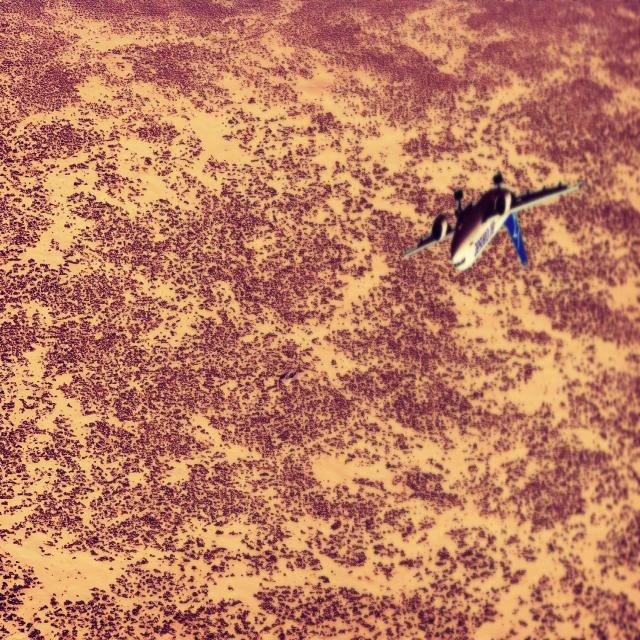airplane: (402, 168, 584, 273)
